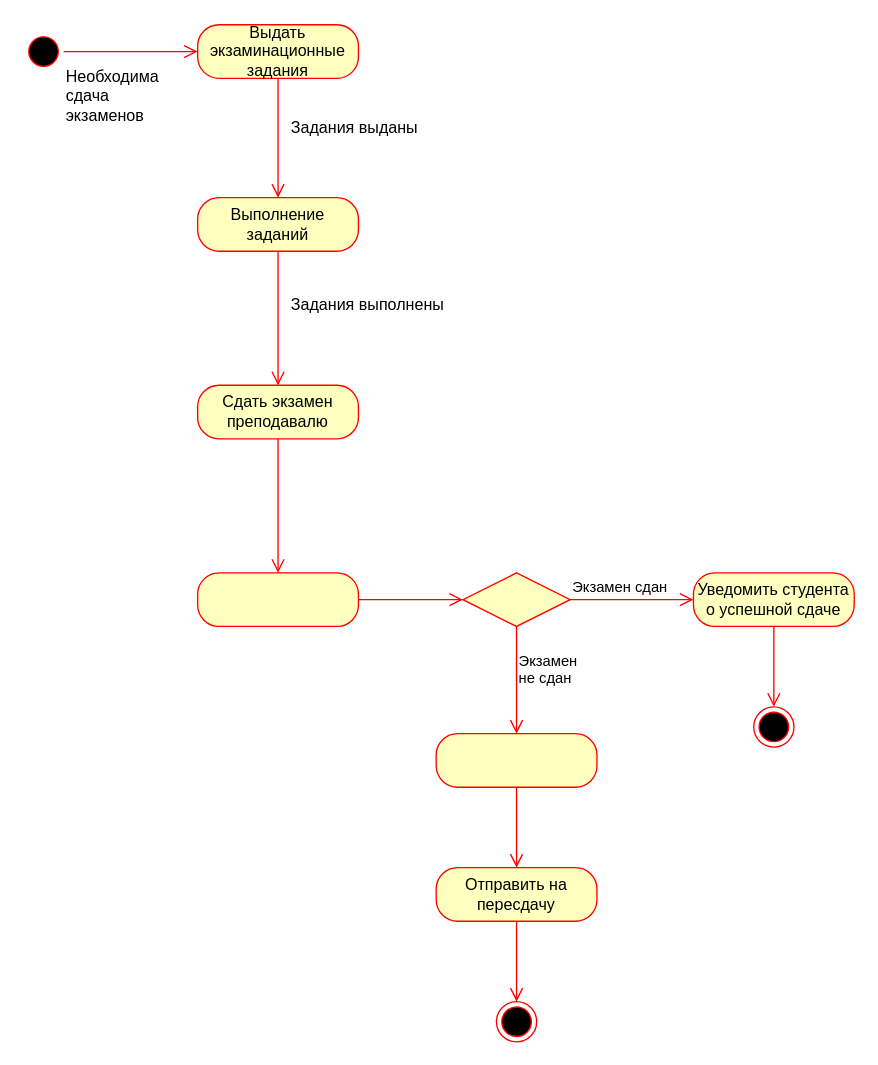
The diagram is 878 pixels wide and 1065 high, and some of its shapes have lost their labels. The shapes that lost their labels are listed below. From the top down, each one's centre as x and y in pixels, then its label:
At (277,599): "Занесение баллов в ИС".
At (516,759): "Уведомить о не сдаче экзамена".
